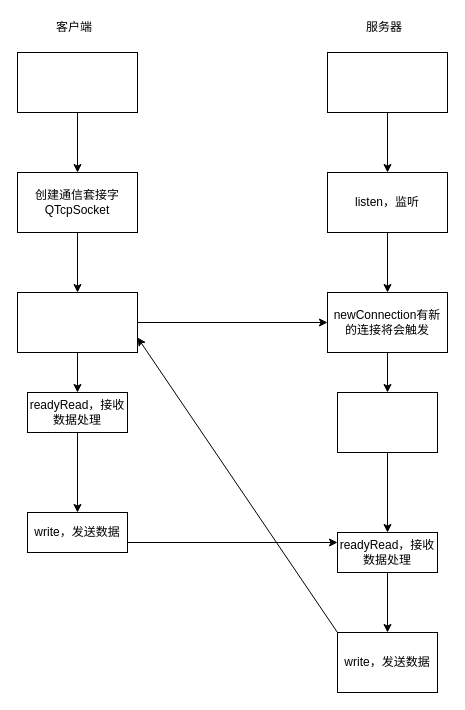
This 465x710 diagram has some shape labels left out. The shapes that lost their labels are listed below. From the top down, each one's centre as x and y in pixels, then its label:
the point at 77,82: 登录
the point at 387,82: 创建监听套接字QTcpServe
the point at 77,322: connectToHost，与服务器连接
the point at 387,422: 取出建立好连接的通信套接字QTcpSocket
